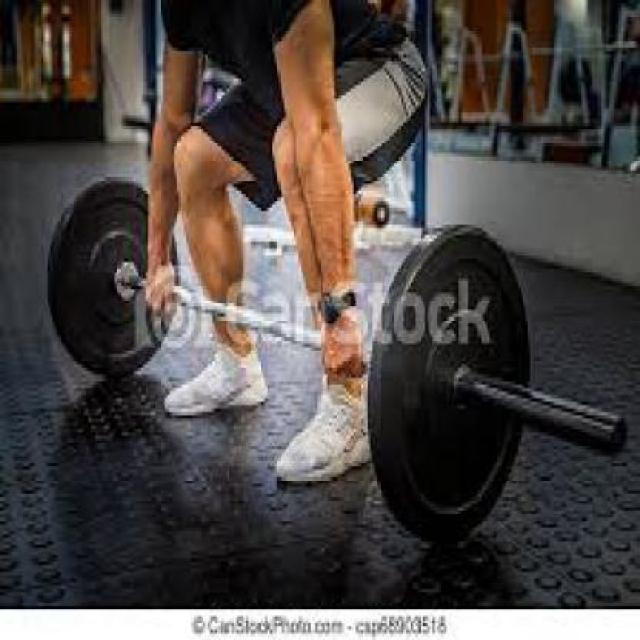barbell: (359, 219, 637, 570)
